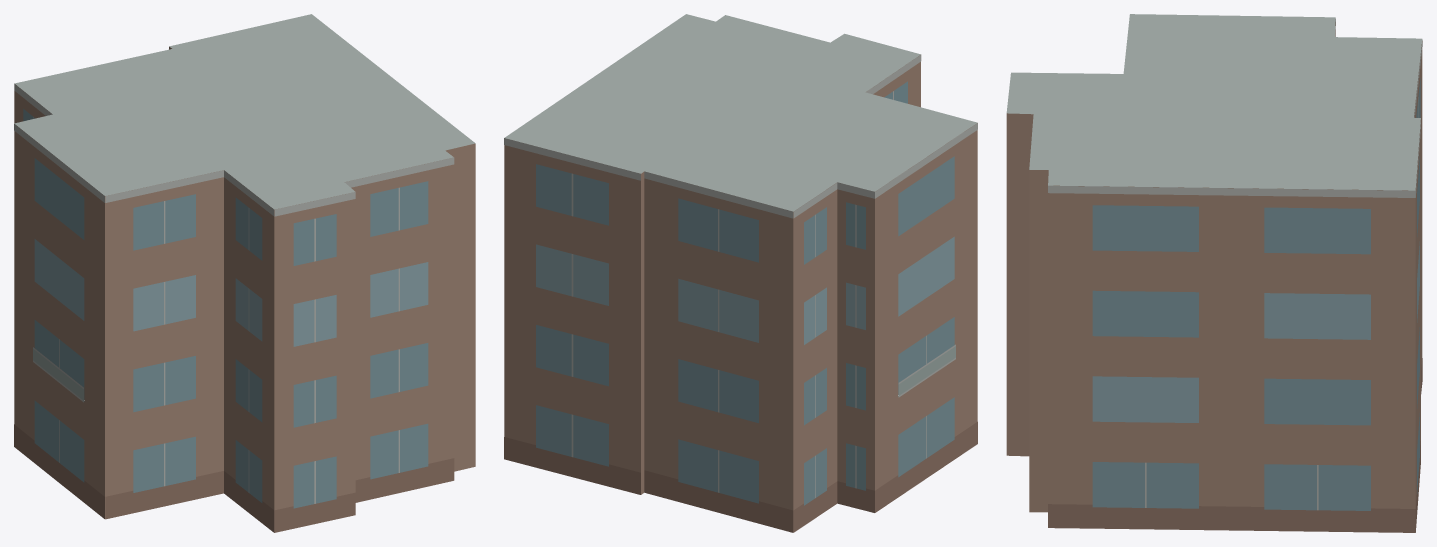
The model's file is survey-upis-32653963.glb.
3 renders of one model, left to right at view 1: azimuth 30°, elevation 25°; view 2: azimuth 150°, elevation 25°; view 3: azimuth 270°, elevation 25°, orthographic. The views are drawn at different scales.
Visible parts, largest first — view 1: survey-upis-32653963.tmp; view 2: survey-upis-32653963.tmp; view 3: survey-upis-32653963.tmp.
Part boxes in pixels (left/top/right/bottom): survey-upis-32653963.tmp: left=14, top=14, right=475, bottom=532; survey-upis-32653963.tmp: left=504, top=14, right=977, bottom=532; survey-upis-32653963.tmp: left=1006, top=14, right=1422, bottom=532.
Bounding box in the file's own units: 12.31 × 11.12 × 12.25.
